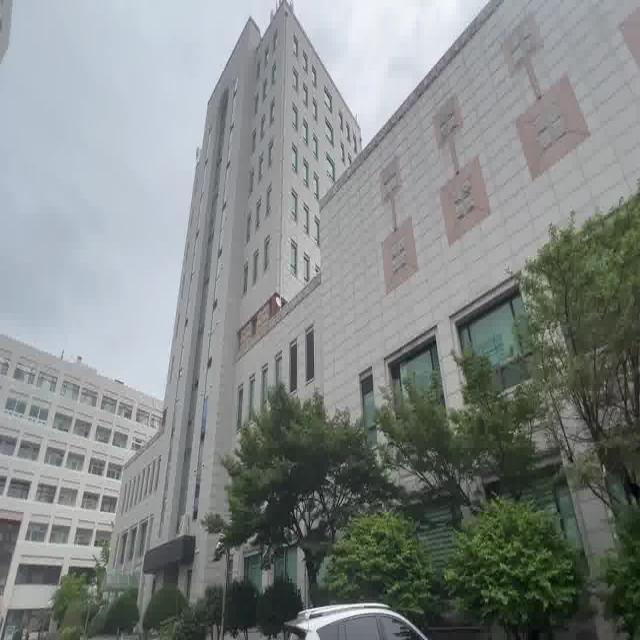building: (176, 7, 515, 378)
